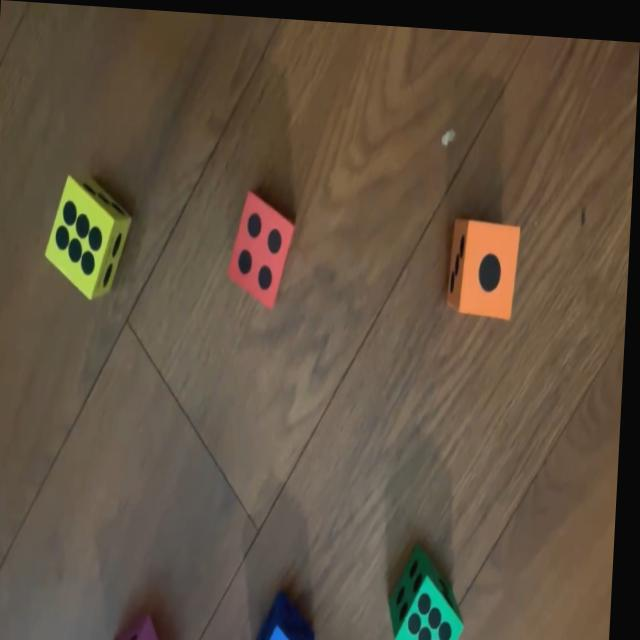blue_block: (258, 591, 322, 640)
red_block: (229, 184, 299, 308)
